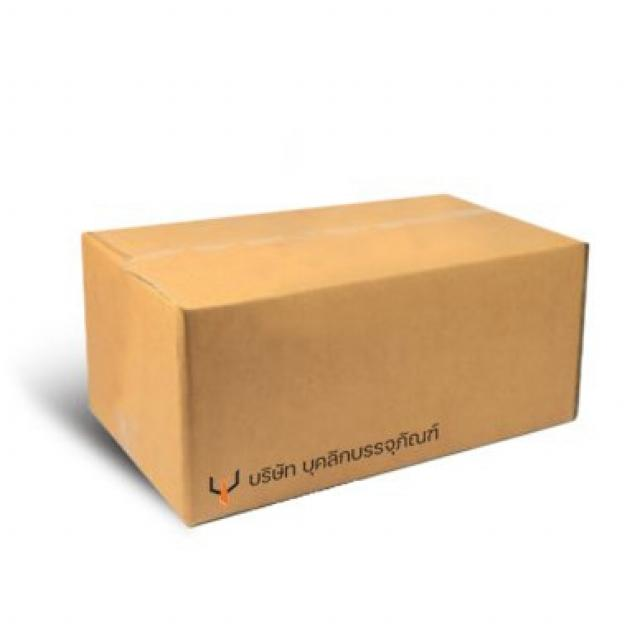box: (66, 178, 599, 542)
